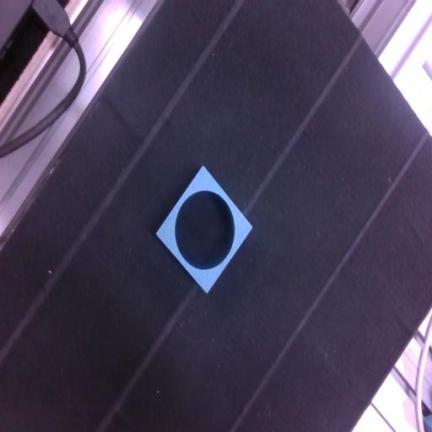hole: (157, 167, 252, 292)
